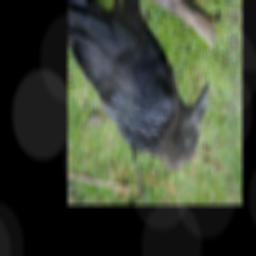Crow: (68, 0, 211, 172)
